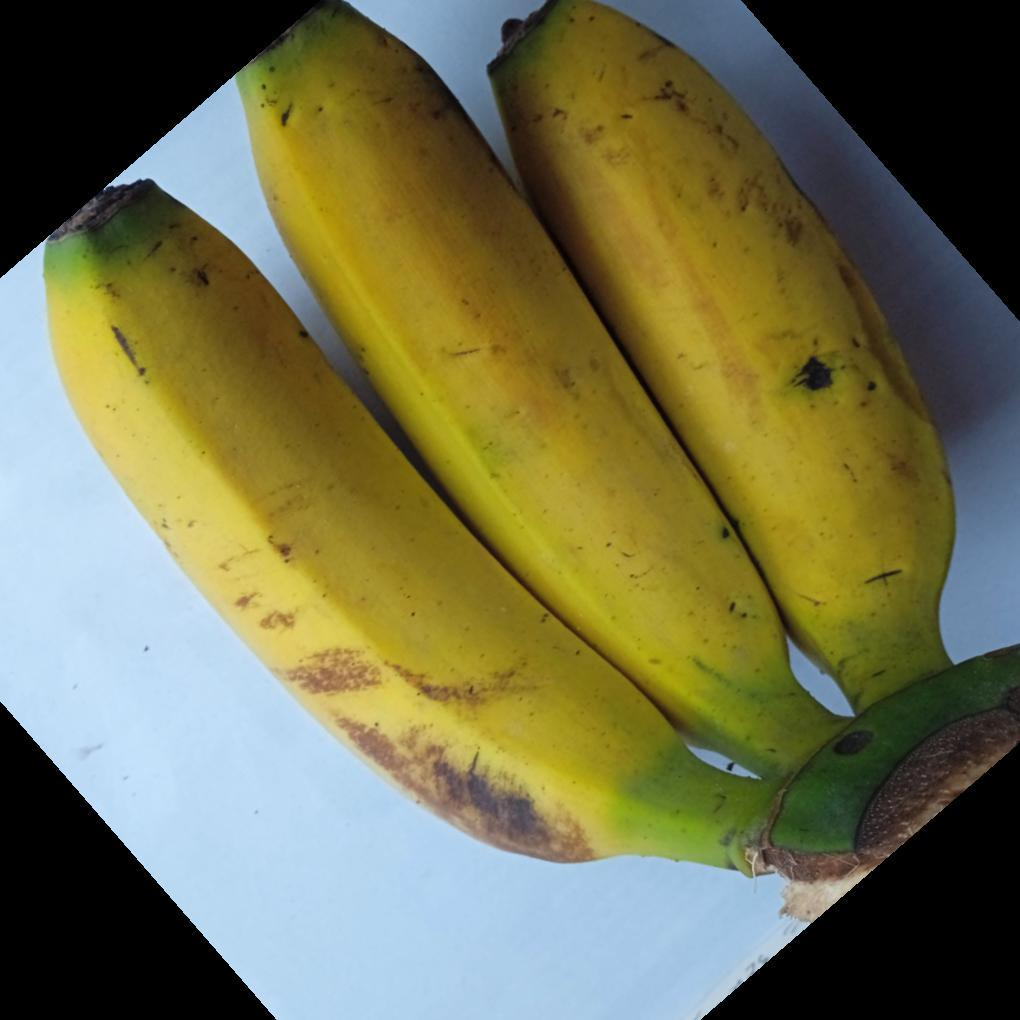Banana Ripe: (18, 174, 1016, 1020), (239, 0, 1020, 1020)
